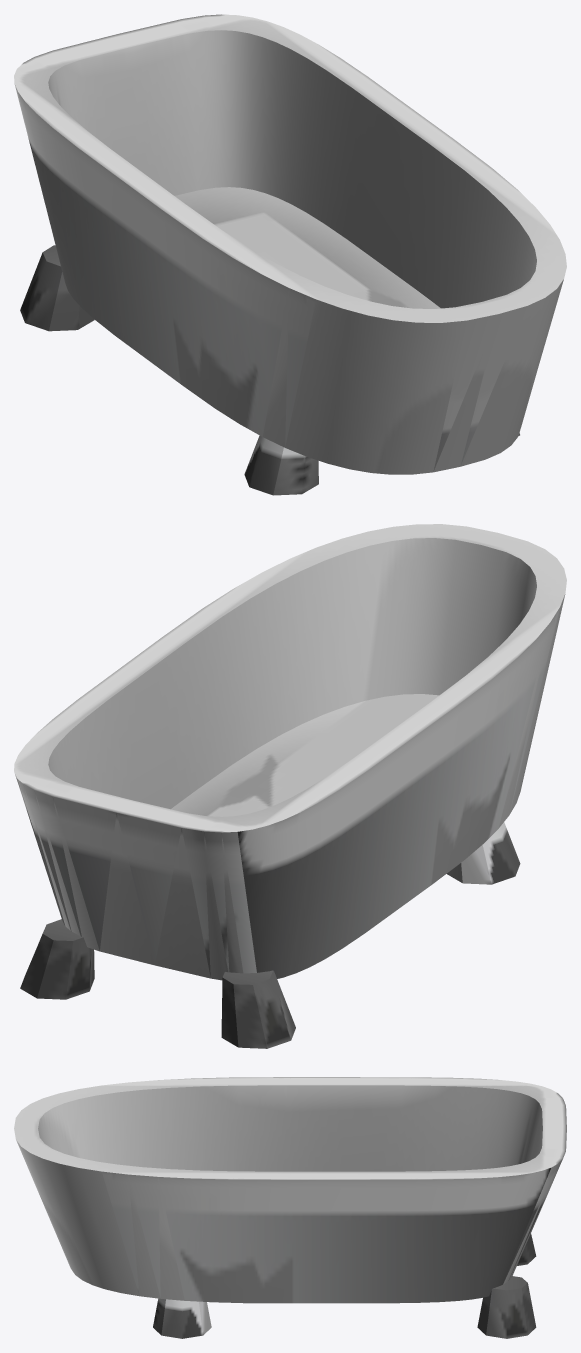
The model's file is Building_AncientBathtub.obj.
3 renders of one model, top to bottom at view 1: azimuth 30°, elevation 25°; view 2: azimuth 150°, elevation 25°; view 3: azimuth 270°, elevation 25°, orthographic. The views are drawn at different scales.
Parts seen in each view (by area): view 1: Body; view 2: Body; view 3: Body.
Boxes of the visible parts, <box> form: Body: <box>14,14,566,495</box>; Body: <box>14,524,566,1048</box>; Body: <box>14,1077,566,1338</box>.
Bounding box in the file's own units: 0.81 × 0.6 × 1.84.
1 material, 1 textured.
